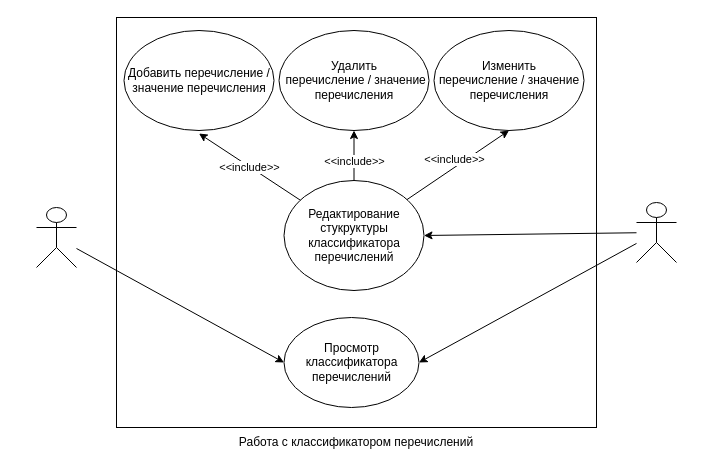
This 717x475 diagram has some shape labels left out. The shapes that lost their labels are listed below. From the top down, each one's centre as x and y in pixels, then its label:
At point (56, 237): "Пользователь".
At point (656, 232): "Администратор".
